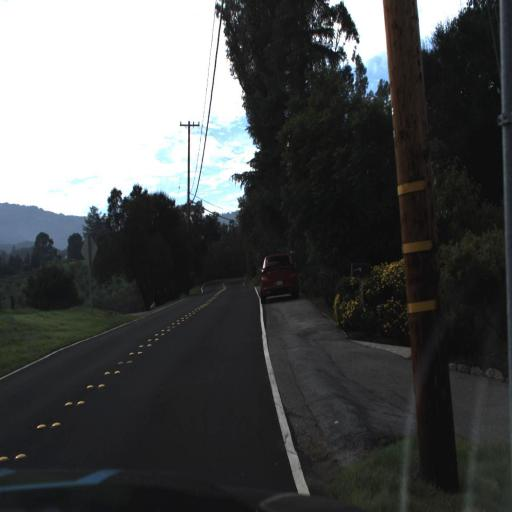car: (256, 252, 302, 308)
